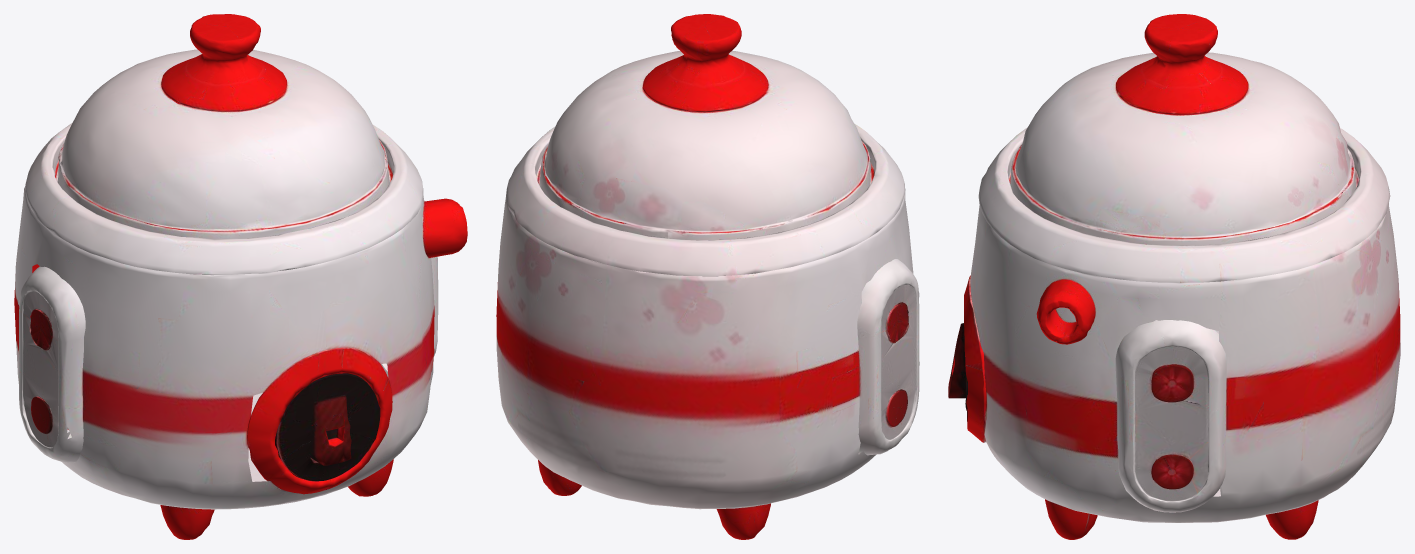
Rendered from noicom.glb.
3 views of the same model, side by side, from view 1: azimuth 30°, elevation 25°; view 2: azimuth 150°, elevation 25°; view 3: azimuth 270°, elevation 25° (orthographic). The views are drawn at different scales.
Bounding box in the file's own units: 0.8403 × 0.9512 × 0.8423.
1 material, 1 textured.
